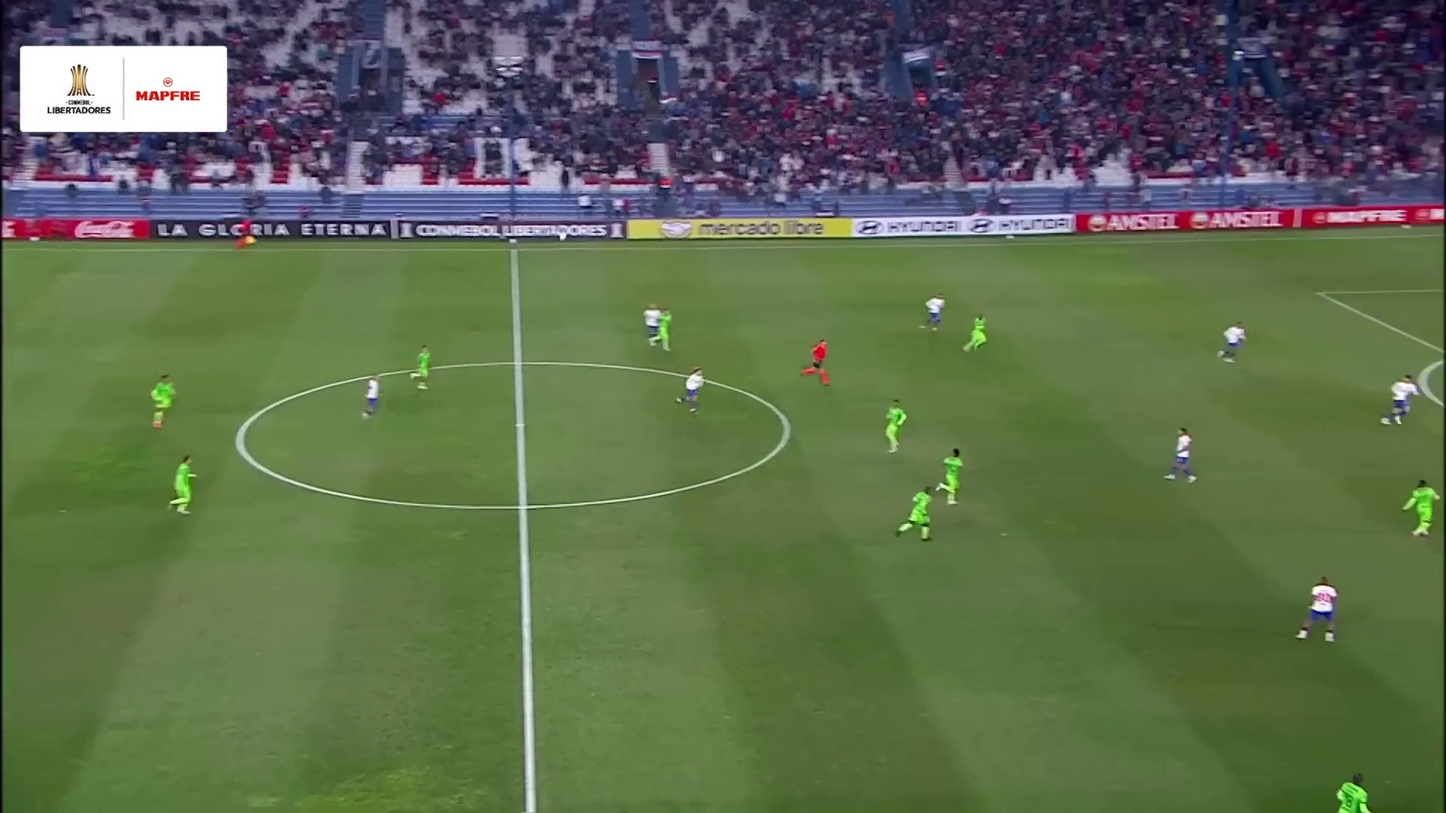player: (1292, 575, 1343, 645), (1400, 478, 1443, 540), (893, 484, 937, 544), (1380, 373, 1422, 428), (166, 455, 200, 518), (1164, 427, 1200, 485), (932, 448, 967, 507), (1329, 770, 1377, 813), (147, 374, 178, 431), (674, 366, 709, 415), (882, 399, 908, 455), (1216, 321, 1248, 366), (648, 311, 682, 349), (358, 374, 385, 421), (408, 344, 435, 391), (962, 313, 990, 355), (920, 292, 947, 334), (642, 303, 661, 352)
referee: (800, 337, 833, 388), (231, 214, 259, 253)
